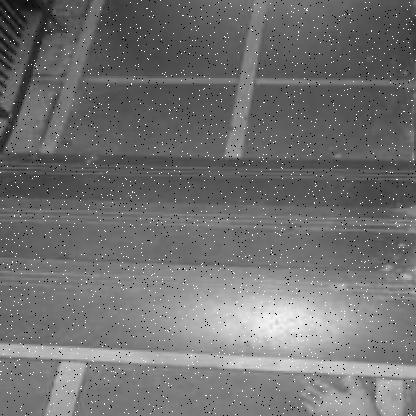stair_down: (98, 144, 340, 303)
